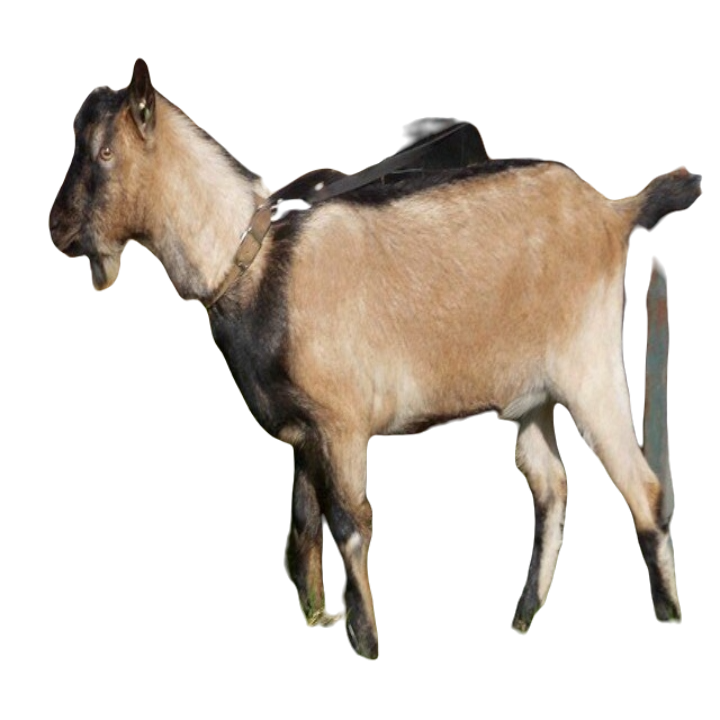Goat: (48, 56, 705, 659)
